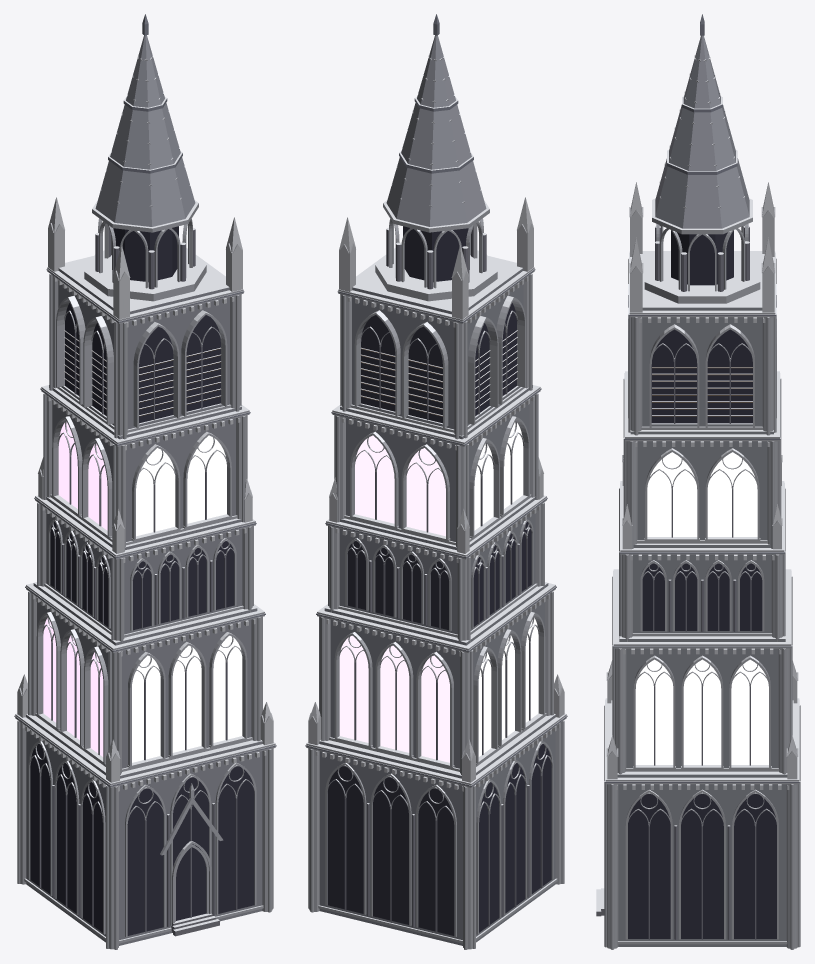
Rendered from AR_Torre_Sineira.fbx.
The picture shows the model from 3 angles, left to right: view 1: azimuth 30°, elevation 25°; view 2: azimuth 150°, elevation 25°; view 3: azimuth 270°, elevation 25°; orthographic projection.
Parts seen in each view (by area): view 1: AR_Torre_Sineira; view 2: AR_Torre_Sineira; view 3: AR_Torre_Sineira.
Part boxes in pixels (x1,y1,x2,y2): AR_Torre_Sineira: (14,14,276,949); AR_Torre_Sineira: (305,14,567,949); AR_Torre_Sineira: (596,14,800,949).
Size of the model in its own units: 17.24 by 86.69 by 17.93.
